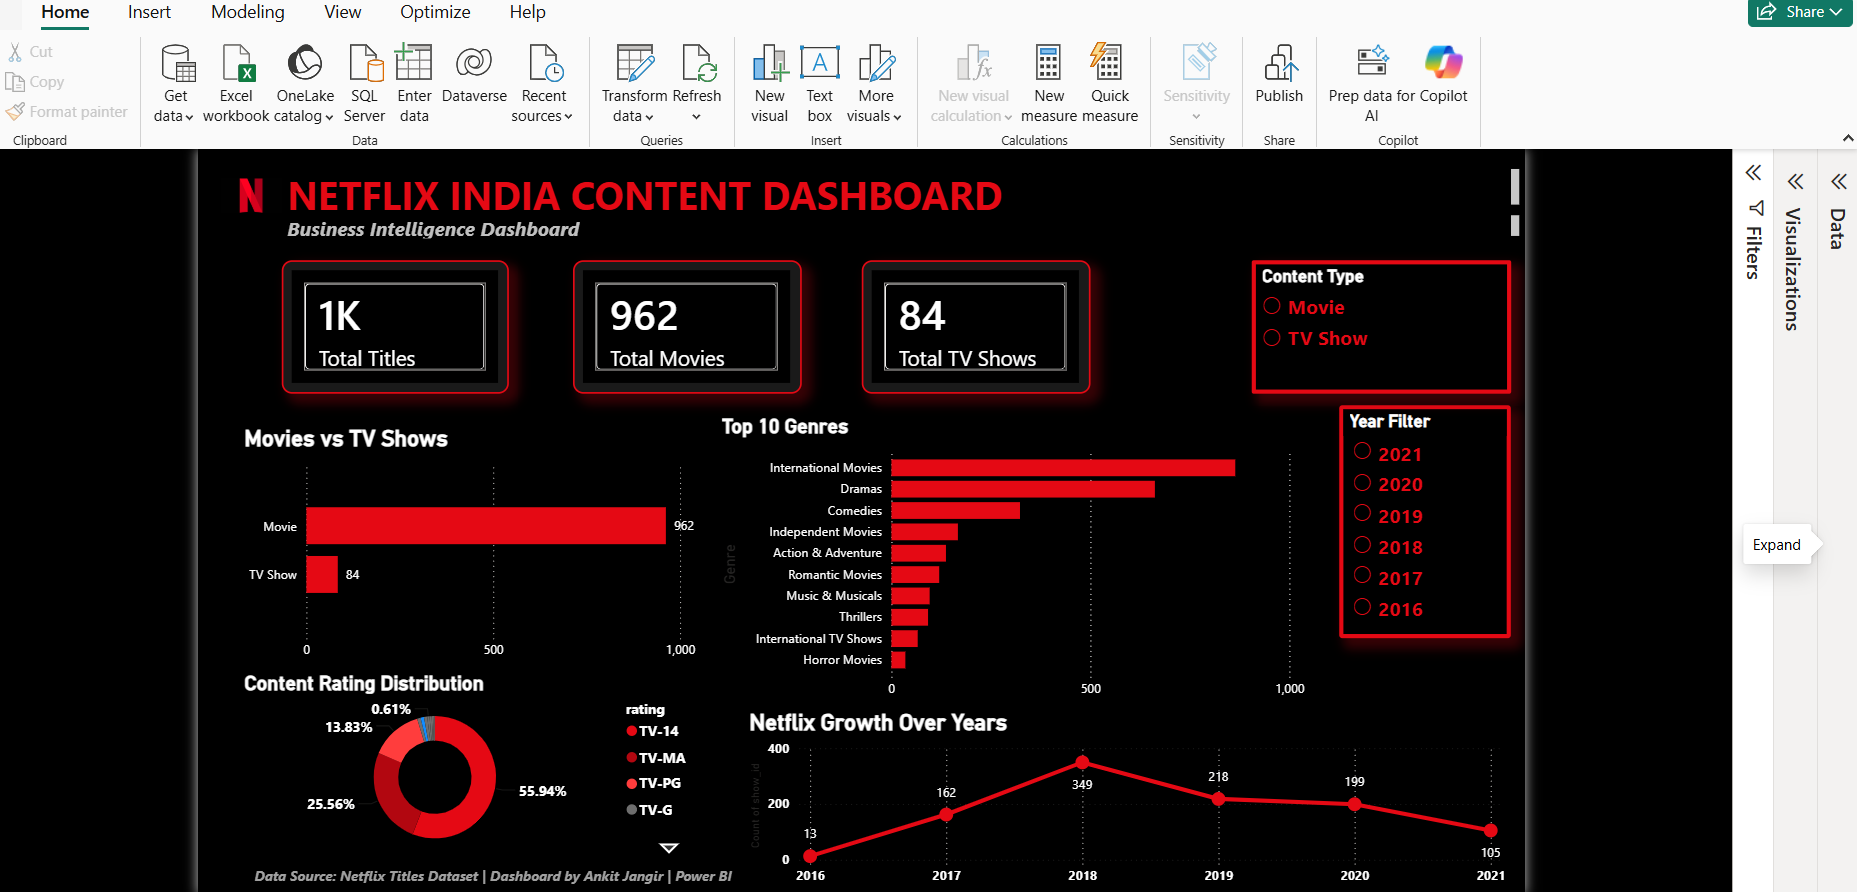

What the dashboard file says about the page in this screenshot:
{"tool":"powerbi","page":{"name":"Executive Dashboard","canvas":[1280,720],"ordinal":0},"visuals":[{"type":"image","box":[21.5,14.8,59.2,60.5],"z":0},{"type":"textbox","box":[80.7,14.8,1199.6,51.1],"z":1000},{"type":"textbox","box":[80.7,59.2,1199.6,32.3],"z":2000},{"type":"cardVisual","fields":{"Data":["netflix_titles.Total Titles"]},"box":[80.7,107.6,219.2,129.1],"z":3000},{"type":"cardVisual","fields":{"Data":["netflix_titles.Total Movies"]},"box":[361.8,107.6,220.6,129.1],"z":4000},{"type":"cardVisual","fields":{"Data":["netflix_titles.Total TV Shows"]},"box":[640.1,107.6,220.6,129.1],"z":5000},{"type":"clusteredBarChart","title":"Movies vs TV Shows","fields":{"Category":["netflix_titles.type"],"Y":["CountNonNull(netflix_titles.show_id)"]},"box":[40.3,266.3,459.9,235.3],"z":6000},{"type":"clusteredBarChart","title":"Top 10 Genres","fields":{"Category":["netflix_india_genres.Genre"],"Y":["CountNonNull(netflix_india_genres.Genre)"]},"box":[500.3,256.9,572.9,295.9],"z":7000},{"type":"donutChart","title":"Content Rating Distribution","fields":{"Category":["netflix_titles.rating"],"Y":["CountNonNull(netflix_india_genres.show_id)"]},"box":[40.3,504.3,459.9,182.9],"z":8000},{"type":"lineChart","title":"Netflix Growth Over Years","fields":{"Category":["netflix_titles.Year Added"],"Y":["CountNonNull(netflix_titles.show_id)"]},"box":[527.2,540.6,739.7,178.9],"z":9000},{"type":"listSlicer","title":"Year Filter","fields":{"Values":["netflix_titles.Year Added"]},"box":[1101.4,247.4,165.4,224.6],"z":10000},{"type":"textbox","box":[49.8,687.2,500.3,32.3],"z":11000},{"type":"listSlicer","title":"Content Type","fields":{"Values":["netflix_titles.type"]},"box":[1016.7,107.6,250.1,129.1],"z":12000}]}

Visuals, with their boxes on the page's 1280x720 design canvas (x1, y1, x2, y2). These are canvas units, not pixel positions in the 1857x892 screenshot, which may show the page scaled, cropped or inside an application window:
image: box=[22, 15, 81, 75]
textbox: box=[81, 15, 1280, 66]
textbox: box=[81, 59, 1280, 92]
cardVisual - netflix_titles.Total Titles: box=[81, 108, 300, 237]
cardVisual - netflix_titles.Total Movies: box=[362, 108, 582, 237]
cardVisual - netflix_titles.Total TV Shows: box=[640, 108, 861, 237]
"Movies vs TV Shows" clusteredBarChart: box=[40, 266, 500, 502]
"Top 10 Genres" clusteredBarChart: box=[500, 257, 1073, 553]
"Content Rating Distribution" donutChart: box=[40, 504, 500, 687]
"Netflix Growth Over Years" lineChart: box=[527, 541, 1267, 720]
"Year Filter" listSlicer: box=[1101, 247, 1267, 472]
textbox: box=[50, 687, 550, 720]
"Content Type" listSlicer: box=[1017, 108, 1267, 237]
